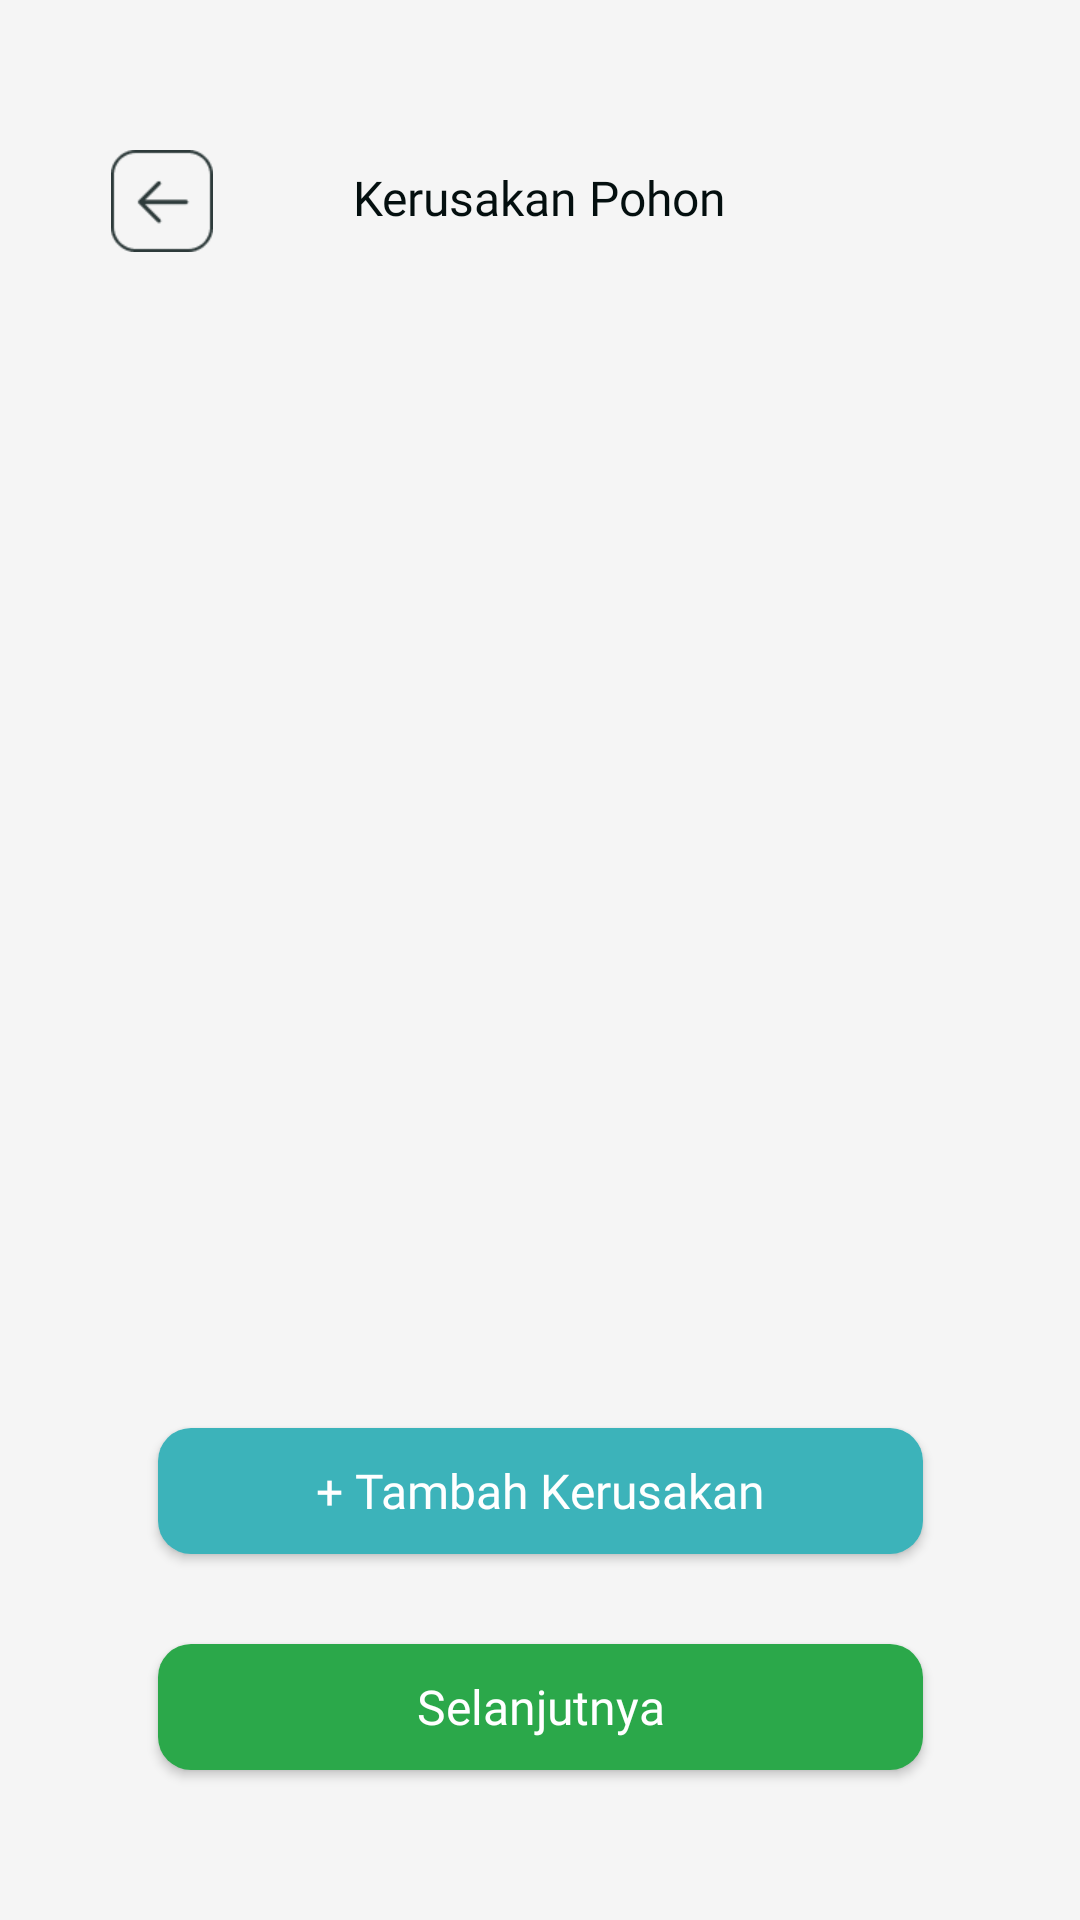

Screen size 1080x1920. Icon name, then its box in pixels as (x1, y1, x2, y2):
back: (111, 150, 213, 252)
